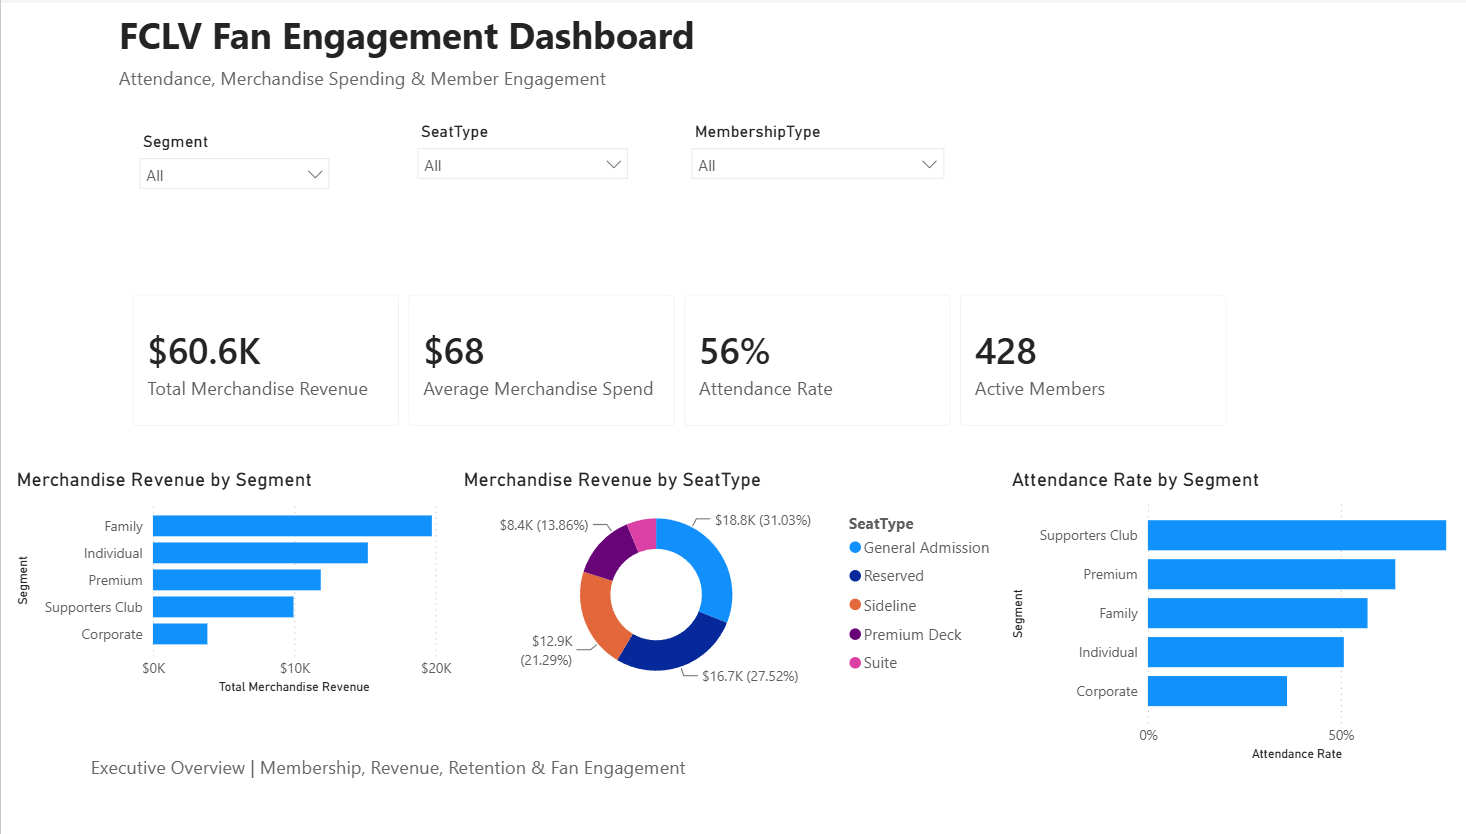

What the dashboard file says about the page in this screenshot:
{"tool":"powerbi","page":{"name":"Fan Engagement","canvas":[1280,720],"ordinal":1},"visuals":[{"type":"textbox","box":[97.7,0,542.6,71.5],"z":0},{"type":"textbox","box":[97.7,50.2,460.7,42.6],"z":1},{"type":"cardVisual","fields":{"Data":["Attendance.Total Merchandise Revenue","Attendance.Average Merchandise Spend","Attendance.Attendance Rate","Attendance.Active Members"]},"box":[97.7,237.9,990.9,149.9],"z":2},{"type":"clusteredBarChart","title":"Merchandise Revenue by Segment","fields":{"Y":["Attendance.Total Merchandise Revenue"],"Category":["Members.Segment"]},"box":[8.9,406.4,389.9,202.2],"z":3},{"type":"donutChart","title":"Merchandise Revenue by SeatType","fields":{"Category":["Members.SeatType"],"Y":["Attendance.Total Merchandise Revenue"]},"box":[398.9,406.4,479.3,202.2],"z":4},{"type":"clusteredBarChart","fields":{"Y":["Attendance.Attendance Rate"],"Category":["Members.Segment"]},"box":[878.2,406.4,401.6,260.6],"z":5},{"type":"slicer","fields":{"Values":["Members.Segment"]},"box":[110.7,107.3,186.4,74.3],"z":6},{"type":"slicer","fields":{"Values":["Members.SeatType"]},"box":[354.2,99,204.2,82.5],"z":7},{"type":"slicer","fields":{"Values":["MembershipSales.MembershipType"]},"box":[593.5,99,240.7,68.1],"z":8},{"type":"textbox","box":[73.6,651.9,627.9,68.1],"z":9}]}

Visuals, with their boxes in screenshot pixels (x1, y1, x2, y2), scaled from the page's 1280x720 canvas onto the 1466x834 screenshot:
textbox: {"x1": 112, "y1": 0, "x2": 733, "y2": 83}
textbox: {"x1": 112, "y1": 58, "x2": 640, "y2": 107}
cardVisual - Attendance.Total Merchandise Revenue x Attendance.Average Merchandise Spend: {"x1": 112, "y1": 276, "x2": 1247, "y2": 449}
"Merchandise Revenue by Segment" clusteredBarChart: {"x1": 10, "y1": 471, "x2": 457, "y2": 705}
"Merchandise Revenue by SeatType" donutChart: {"x1": 457, "y1": 471, "x2": 1006, "y2": 705}
clusteredBarChart - Attendance.Attendance Rate x Members.Segment: {"x1": 1006, "y1": 471, "x2": 1465, "y2": 773}
slicer - Members.Segment: {"x1": 127, "y1": 124, "x2": 340, "y2": 210}
slicer - Members.SeatType: {"x1": 406, "y1": 115, "x2": 640, "y2": 210}
slicer - MembershipSales.MembershipType: {"x1": 680, "y1": 115, "x2": 955, "y2": 194}
textbox: {"x1": 84, "y1": 755, "x2": 803, "y2": 833}
